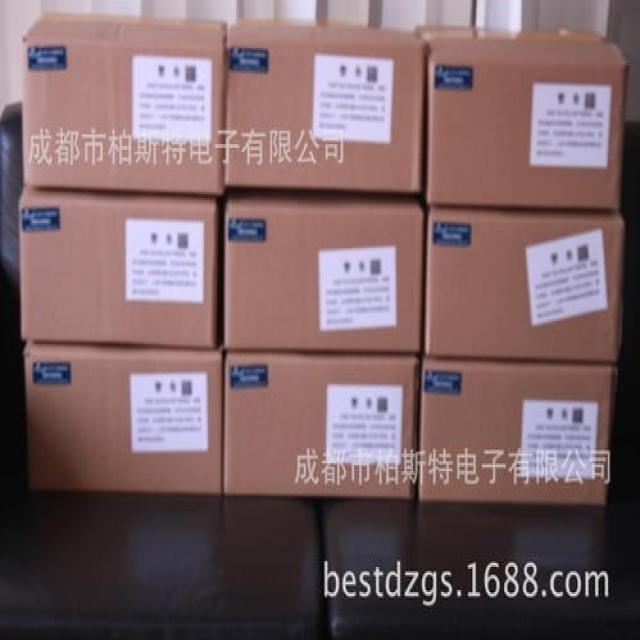box: (22, 13, 227, 196), (423, 38, 631, 211), (224, 25, 428, 192), (223, 192, 425, 354), (18, 186, 219, 348), (425, 206, 626, 365), (23, 338, 223, 494), (419, 356, 618, 507), (223, 352, 421, 500)
